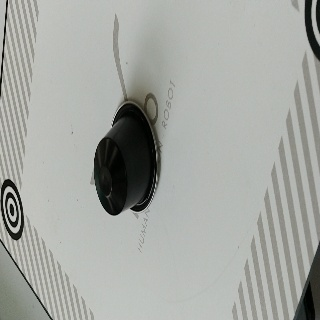capsule_10: (92, 99, 160, 217)
